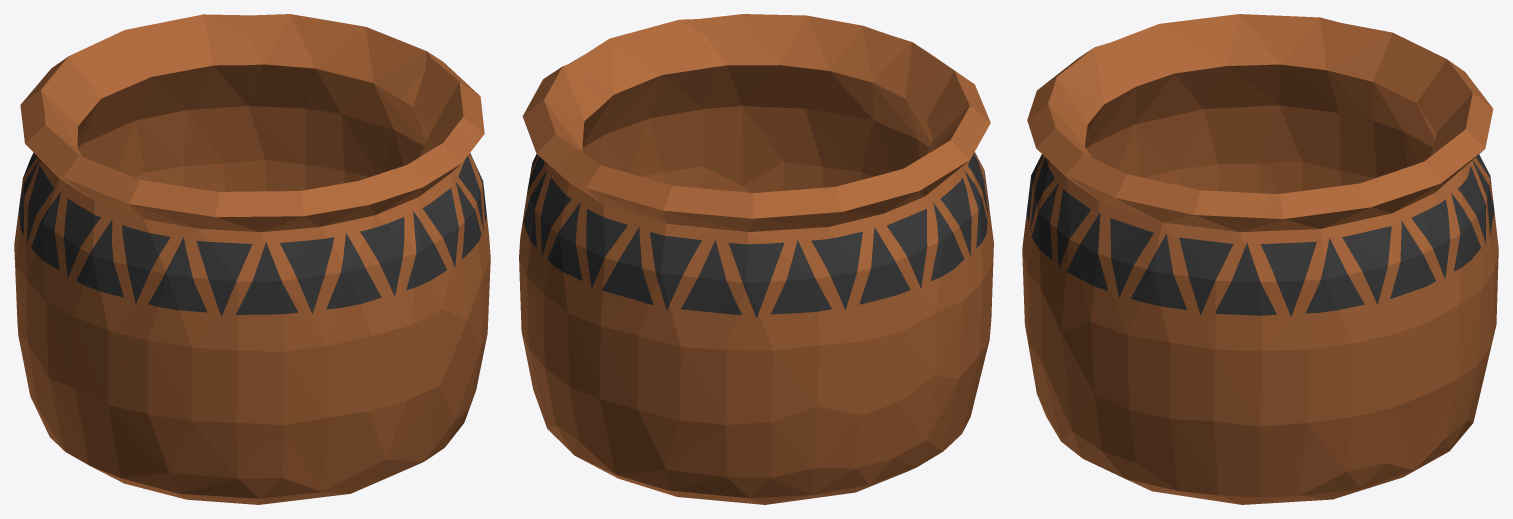
Rendered from Pottery 22_1b.fbx.
3 views of the same model, side by side, from view 1: azimuth 30°, elevation 25°; view 2: azimuth 150°, elevation 25°; view 3: azimuth 270°, elevation 25° (orthographic).
Visible parts, largest first — view 1: Pottery 22_1b.006, Pottery 22_1b.007, Pottery 22_1b.001, Pottery 22_1b, Pottery 22_1b.004, Pottery 22_1b.003, Pottery 22_1b.002, Pottery 22_1b.005; view 2: Pottery 22_1b.005, Pottery 22_1b.004, Pottery 22_1b, Pottery 22_1b.001, Pottery 22_1b.006, Pottery 22_1b.002, Pottery 22_1b.003, Pottery 22_1b.007; view 3: Pottery 22_1b.003, Pottery 22_1b.002, Pottery 22_1b.006, Pottery 22_1b, Pottery 22_1b.001, Pottery 22_1b.004, Pottery 22_1b.005, Pottery 22_1b.007.
Part boxes in pixels (x1=…): Pottery 22_1b.006: x1=16, y1=115, x2=199, y2=414; Pottery 22_1b.007: x1=148, y1=187, x2=368, y2=446; Pottery 22_1b.001: x1=320, y1=125, x2=482, y2=411; Pottery 22_1b: x1=16, y1=295, x2=487, y2=504; Pottery 22_1b.004: x1=69, y1=14, x2=278, y2=191; Pottery 22_1b.003: x1=247, y1=14, x2=450, y2=191; Pottery 22_1b.002: x1=401, y1=57, x2=490, y2=348; Pottery 22_1b.005: x1=14, y1=56, x2=100, y2=316; Pottery 22_1b.005: x1=681, y1=174, x2=901, y2=424; Pottery 22_1b.004: x1=537, y1=149, x2=753, y2=415; Pottery 22_1b: x1=527, y1=186, x2=989, y2=504; Pottery 22_1b.001: x1=699, y1=14, x2=893, y2=192; Pottery 22_1b.006: x1=882, y1=80, x2=993, y2=409; Pottery 22_1b.002: x1=569, y1=19, x2=742, y2=191; Pottery 22_1b.003: x1=519, y1=63, x2=605, y2=368; Pottery 22_1b.007: x1=872, y1=36, x2=978, y2=170; Pottery 22_1b.003: x1=1237, y1=148, x2=1462, y2=460; Pottery 22_1b.002: x1=1061, y1=168, x2=1267, y2=421; Pottery 22_1b.006: x1=1111, y1=14, x2=1346, y2=193; Pottery 22_1b: x1=1025, y1=329, x2=1487, y2=504; Pottery 22_1b.001: x1=1022, y1=88, x2=1113, y2=363; Pottery 22_1b.004: x1=1416, y1=59, x2=1498, y2=394; Pottery 22_1b.005: x1=1327, y1=23, x2=1446, y2=184; Pottery 22_1b.007: x1=1033, y1=42, x2=1135, y2=167.
Size of the model in its own units: 51.71 by 39.4 by 51.68.
